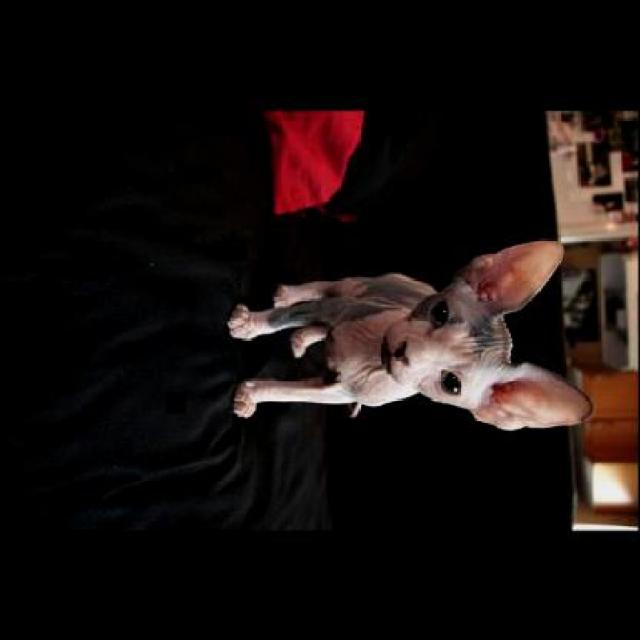unauthorized: (225, 237, 592, 431)
